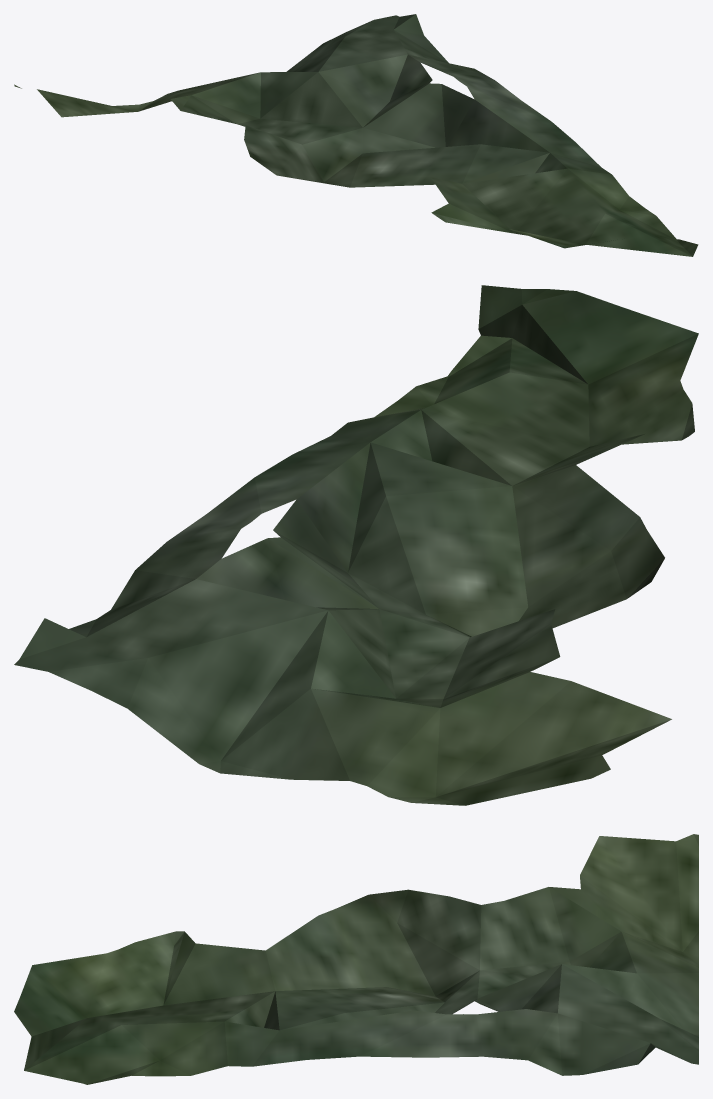
3 renders of one model, top to bottom at view 1: azimuth 30°, elevation 25°; view 2: azimuth 150°, elevation 25°; view 3: azimuth 270°, elevation 25°, orthographic. The views are drawn at different scales.
Size of the model in its own units: 2.78 by 0.4289 by 3.95.
1 material, 1 textured.
